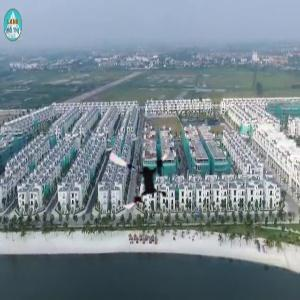drone: (102, 138, 180, 216)
